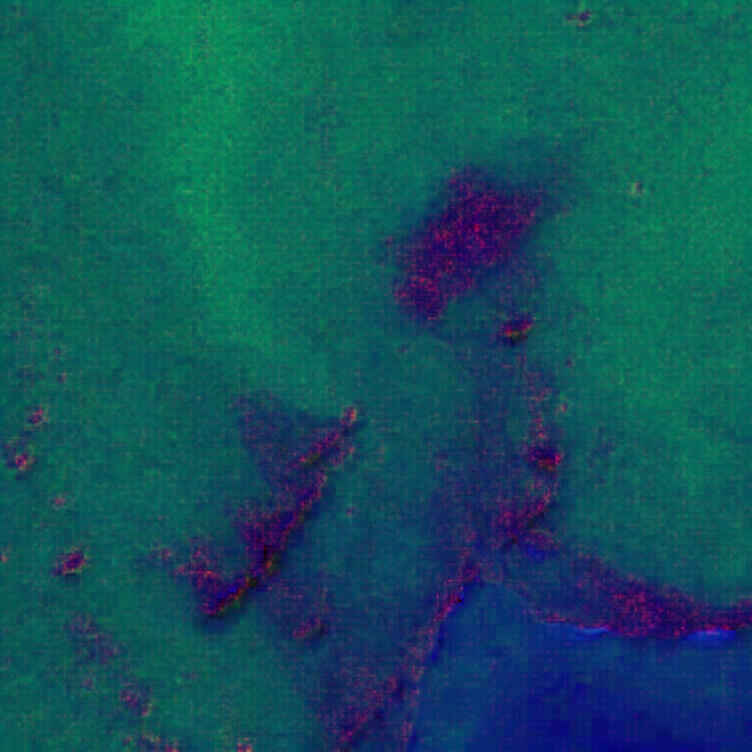rip_current: (234, 284, 512, 575)
